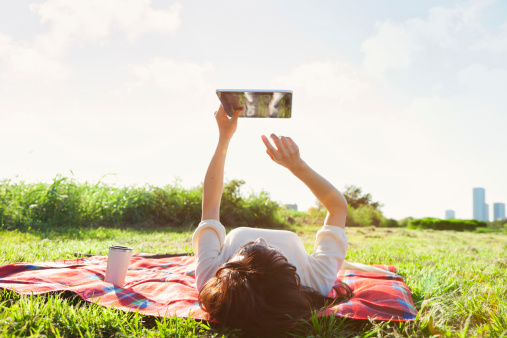deitado: (179, 95, 373, 331)
